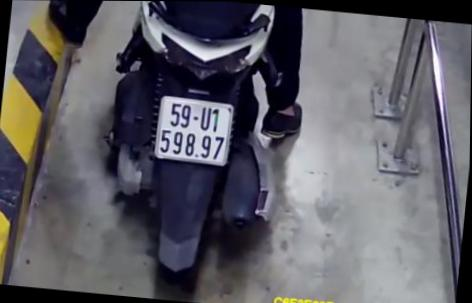LP: (154, 94, 235, 167)
